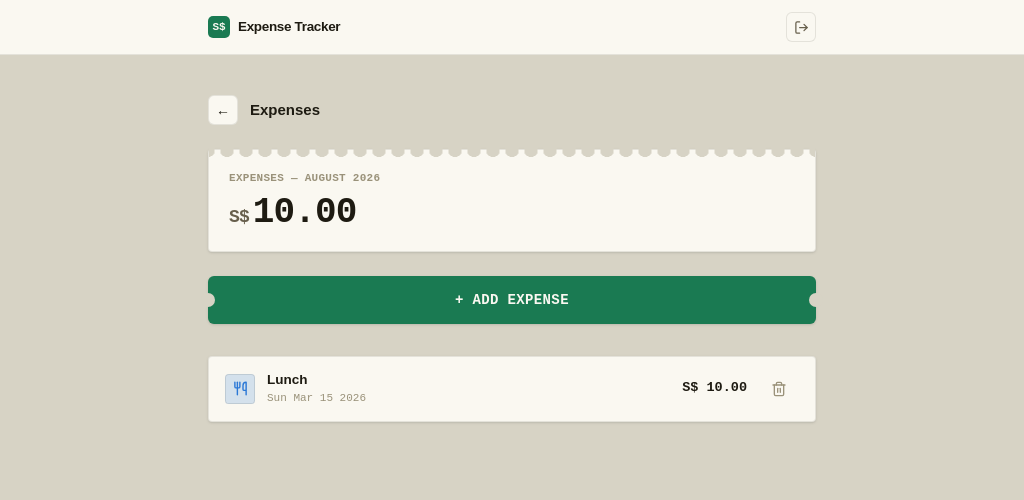
Scenario: ListExpensePage › shows an error message when removing an expense fails
Click the button named "Delete expense": (779, 388) [759, 368, 799, 408]
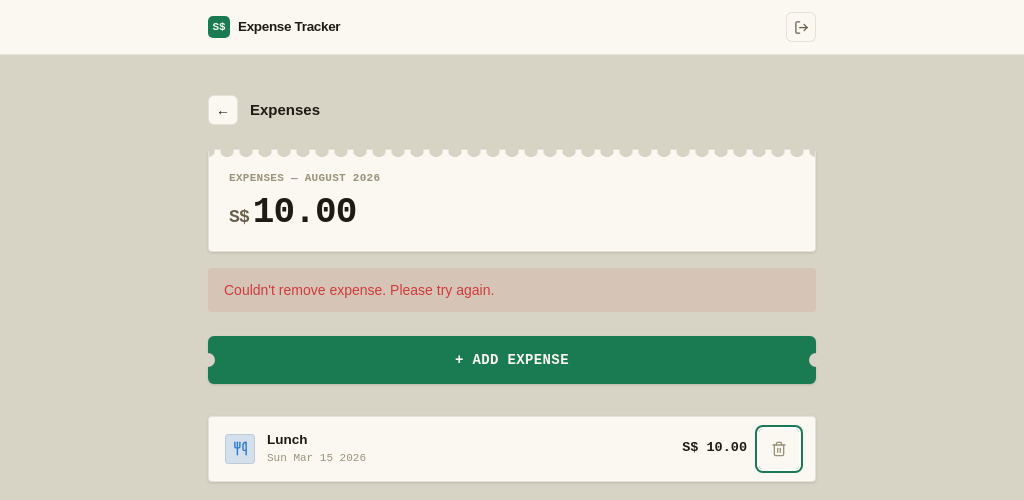
expect the text "Couldn't remove expense. Please try again." is shown: met, box [208, 268, 816, 312]
